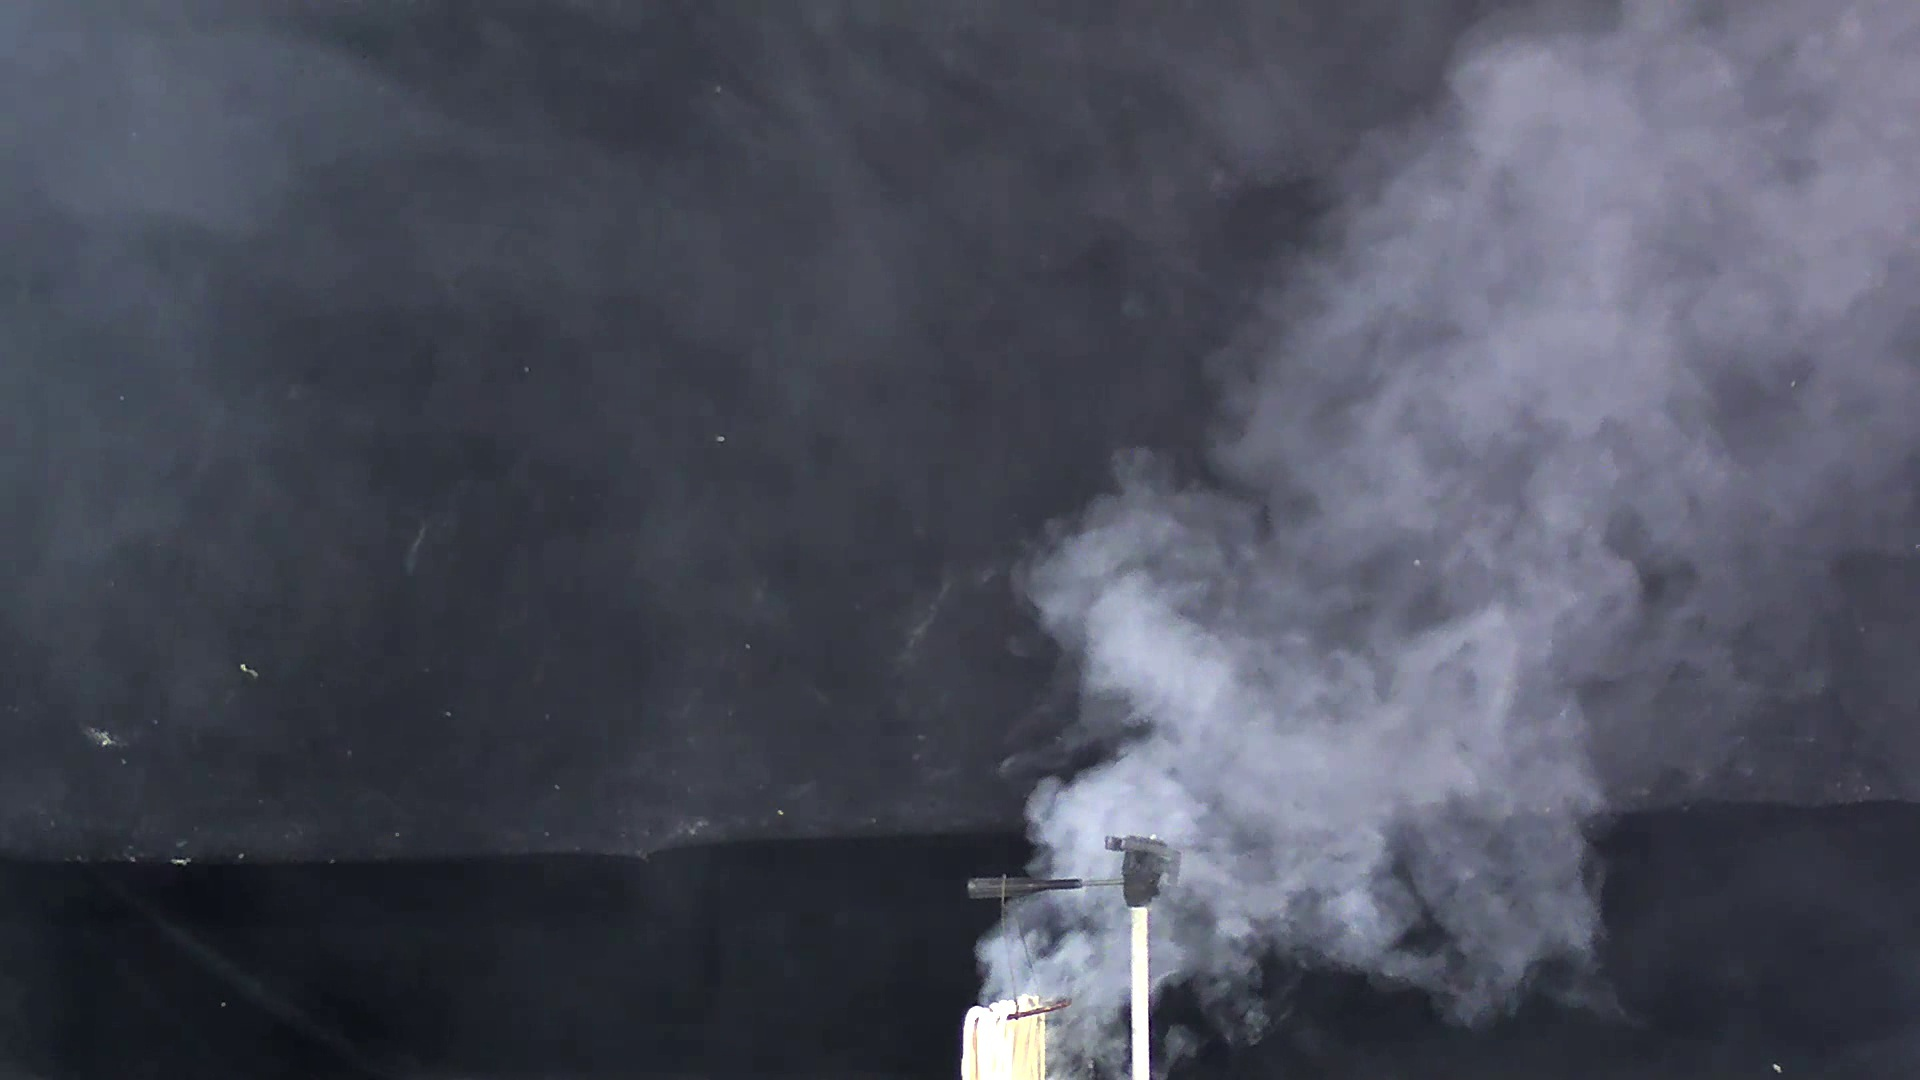smoke: (971, 20, 1915, 972)
